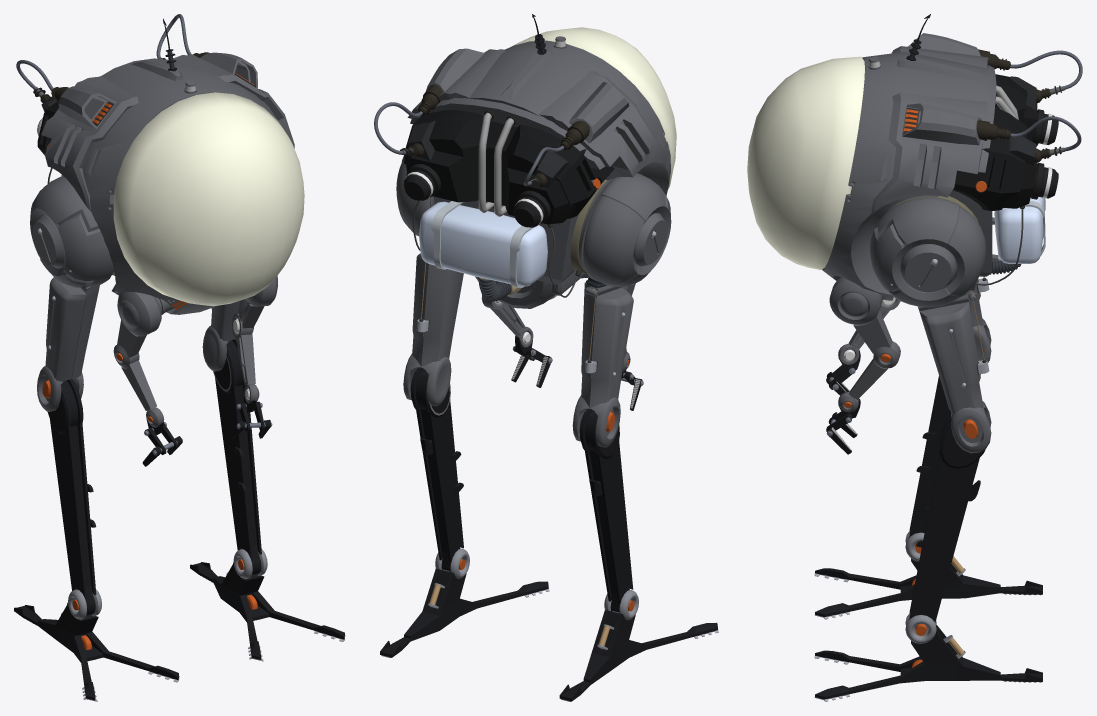
File: Frog_Sci-Fi.fbx
The picture shows the model from 3 angles, left to right: view 1: azimuth 30°, elevation 25°; view 2: azimuth 150°, elevation 25°; view 3: azimuth 270°, elevation 25°; orthographic projection. The views are drawn at different scales.
Visible parts, largest first — view 1: Cube.026, Cylinder.015, Cube.024, Cylinder.030, Sphere.017, Cube.044, Cube.023, Cylinder.018, Sphere.005, Cube.047, Cylinder.017, Cube.052 (+10 smaller); view 2: Cube.024, Sphere.017, Cylinder.019, Cylinder.015, Cube.055, Cylinder.030, Cube.023, Cube.044, Cube.052, Cube.026, Cylinder.038, Cube.047 (+17 smaller); view 3: Cube.026, Cylinder.015, Sphere.017, Cube.024, Cylinder.030, Cube.044, Cube.023, Cylinder.019, Cube.047, Cube.055, Sphere.014, Cylinder.017 (+19 smaller).
Boxes of the visible parts, x1,y1,x2,y2 form: Cube.026: (113,92,304,306); Cylinder.015: (82,58,280,314); Cube.024: (50,378,261,597); Cylinder.030: (41,54,294,210); Sphere.017: (30,176,114,287); Cube.044: (14,562,344,700); Cube.023: (45,277,86,381); Cylinder.018: (47,339,244,434); Sphere.005: (117,275,277,336); Cube.047: (58,52,257,129); Cylinder.017: (37,326,228,411); Cube.052: (71,285,240,386); Cube.024: (416,399,633,603); Sphere.017: (396,155,671,286); Cylinder.019: (404,109,614,218); Cylinder.015: (463,40,670,278); Cube.055: (419,201,547,286); Cylinder.030: (407,49,666,177); Cube.023: (412,253,633,407); Cube.044: (380,581,717,701); Cube.052: (422,264,621,413); Cube.026: (511,27,676,189); Cylinder.038: (405,150,571,224); Cube.047: (426,48,629,143); Cube.026: (747,56,864,269); Cylinder.015: (822,52,989,300); Sphere.017: (869,197,986,307); Cube.024: (909,376,979,622); Cylinder.030: (871,46,988,213); Cube.044: (815,568,1042,699); Cube.023: (919,302,983,414); Cylinder.019: (953,74,1027,210); Cube.047: (902,33,981,145); Cube.055: (994,197,1044,263); Sphere.014: (900,244,956,292); Cylinder.017: (951,318,991,453).
Bounding box in the file's own units: 90.66 × 202 × 98.64.
